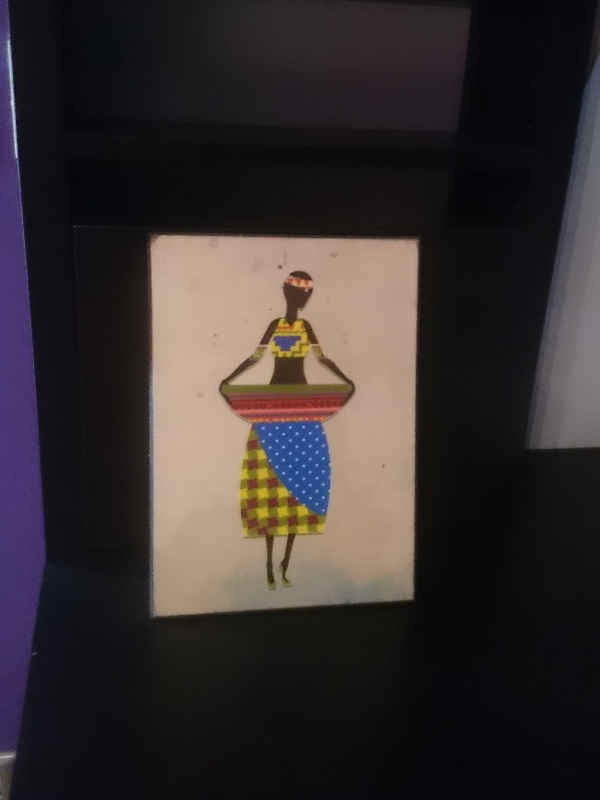my image: (153, 240, 414, 615)
